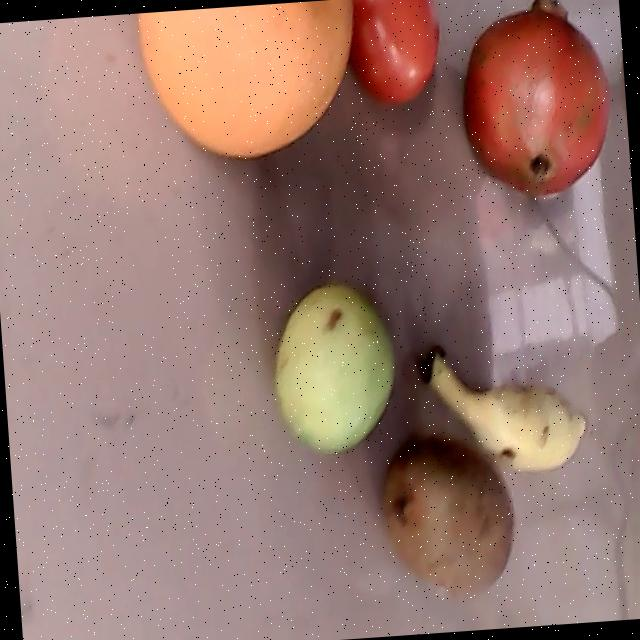kiwi: (381, 439, 514, 591)
lemon: (273, 283, 395, 454)
orange: (137, 0, 350, 158)
pomegranate: (462, 0, 608, 198)
tomato: (349, 0, 439, 104)
